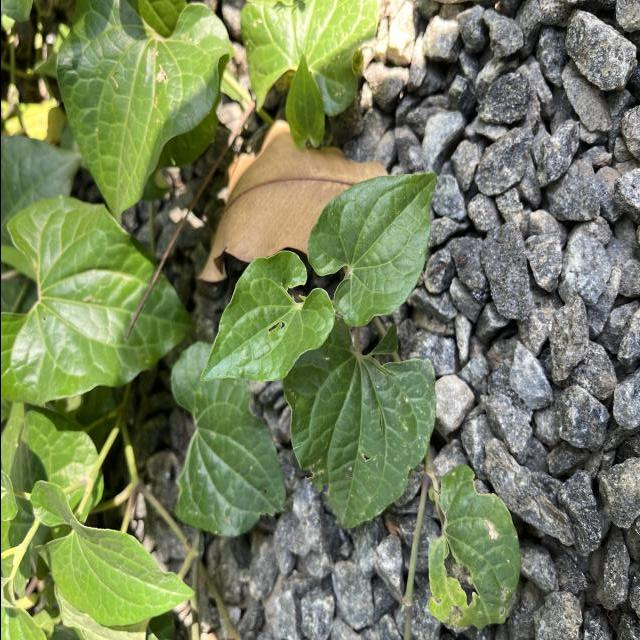Piper longum: (27, 477, 198, 628), (304, 168, 438, 330), (196, 248, 336, 385)
